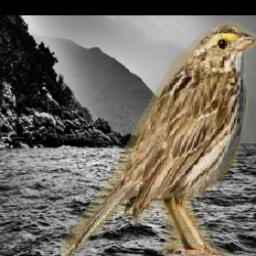Sparrow: (62, 19, 256, 256)
